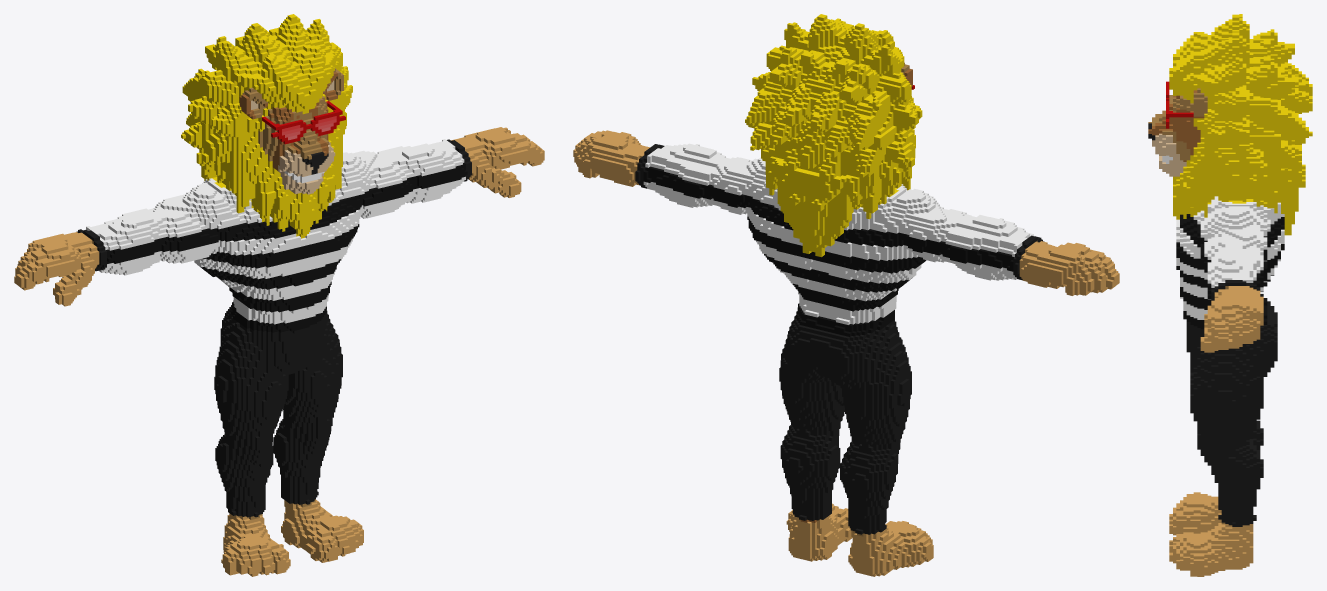
File: 838-bhxFYfy-.fbx
3 renders of one model, left to right at view 1: azimuth 30°, elevation 25°; view 2: azimuth 150°, elevation 25°; view 3: azimuth 270°, elevation 25°, orthographic. The views are drawn at different scales.
Parts seen in each view (by area): view 1: big_smile; view 2: big_smile; view 3: big_smile.
Part boxes in pixels (bbox=[...]): big_smile: bbox=[14, 14, 544, 576]; big_smile: bbox=[573, 14, 1119, 576]; big_smile: bbox=[1148, 14, 1312, 576].
Size of the model in its own units: 17.2 by 16.5 by 4.7.
Materials: 5 (5 with a texture image).
